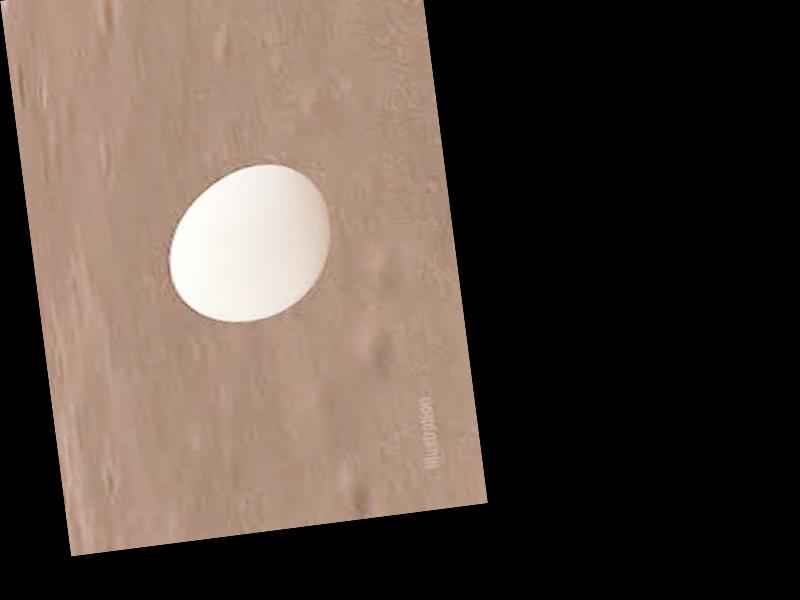Eggs: (159, 155, 340, 330)
